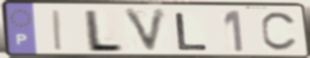1: (220, 9, 245, 55)
C: (259, 11, 300, 54)
I: (52, 9, 65, 53)
L: (85, 8, 126, 54), (174, 11, 211, 52)
V: (121, 7, 170, 56)
